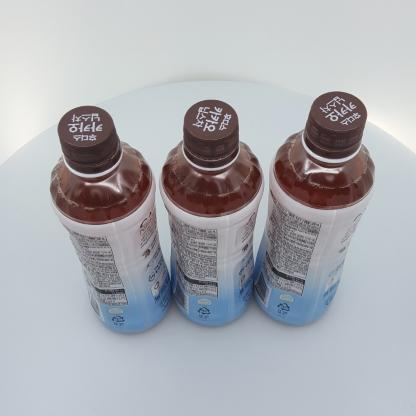------500ML: (252, 91, 375, 325), (49, 106, 172, 333), (159, 100, 264, 326)
